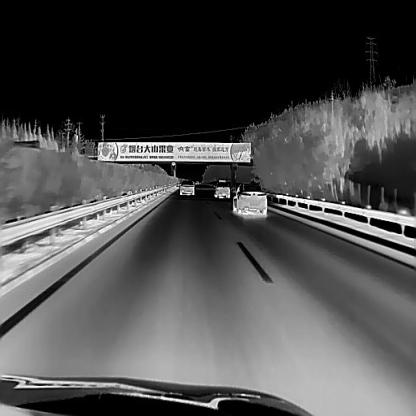car: (232, 180, 267, 214), (212, 178, 228, 197), (178, 178, 194, 193)
